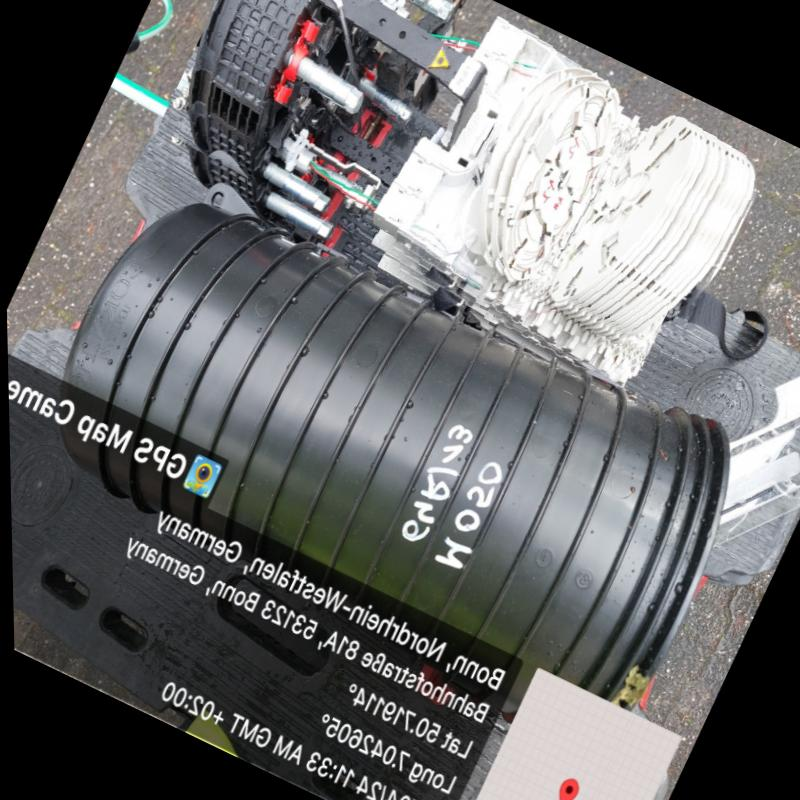NT-Muffen: (176, 0, 769, 394)
